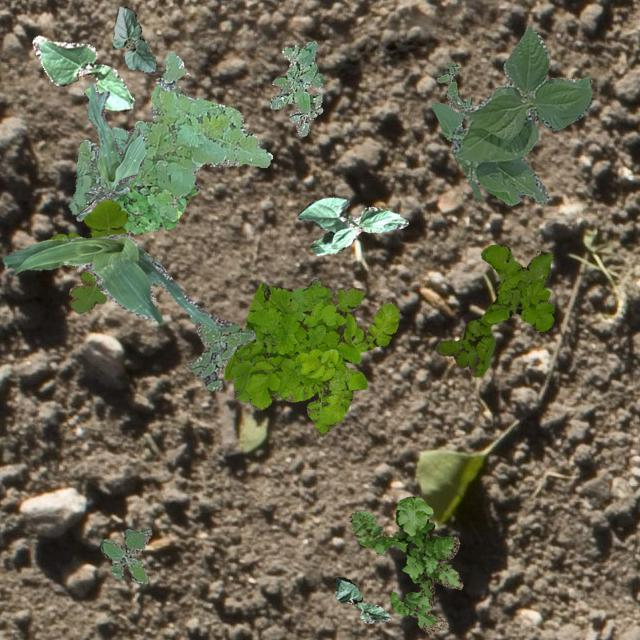crop: (432, 23, 592, 205), (2, 232, 240, 332), (76, 81, 144, 220), (32, 34, 134, 110), (296, 198, 408, 255), (111, 5, 156, 72), (334, 576, 390, 622)
weed: (68, 52, 272, 220), (223, 278, 400, 436), (434, 242, 554, 376), (348, 496, 462, 634), (50, 198, 126, 312), (268, 40, 322, 136), (186, 320, 253, 390), (110, 182, 198, 234), (100, 528, 150, 584), (436, 60, 470, 116)
